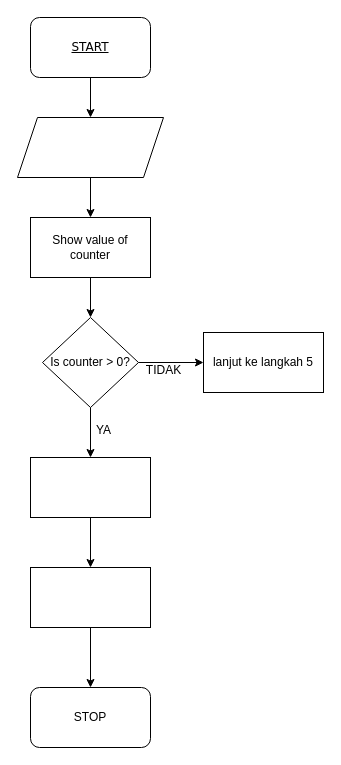
The diagram is 341 pixels wide and 765 high, and some of its shapes have lost their labels. Each missing label, with the centre of its shape:
"Kurangi 1 dari counter, lalu kembali ke langkah 3" goes at [90,597].
"Lanjut ke langkah 6" goes at [90,487].
"set counter 20" goes at [90,147].
